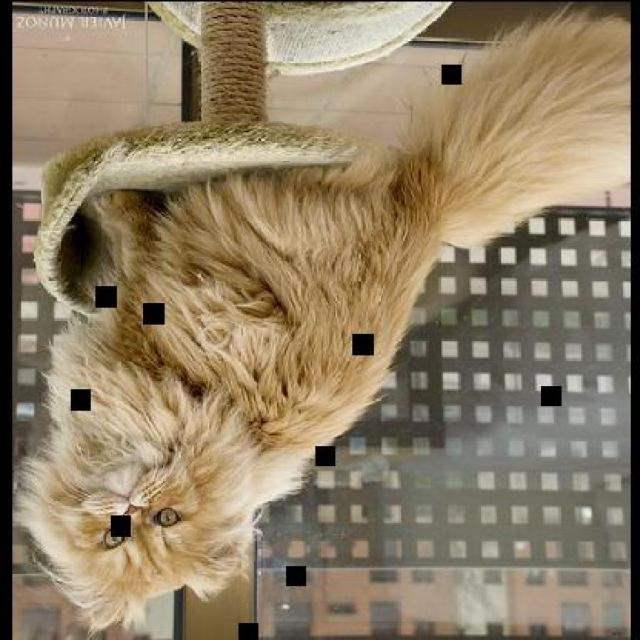unauthorized: (12, 1, 630, 637)
